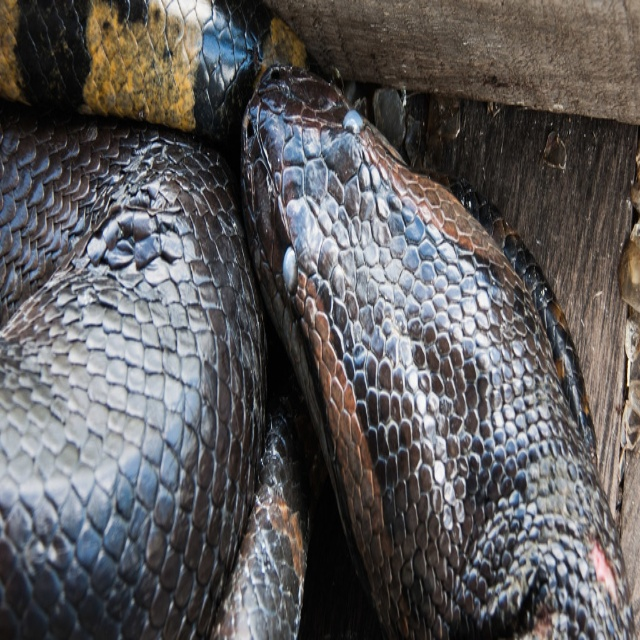Snake: (0, 0, 636, 639)
